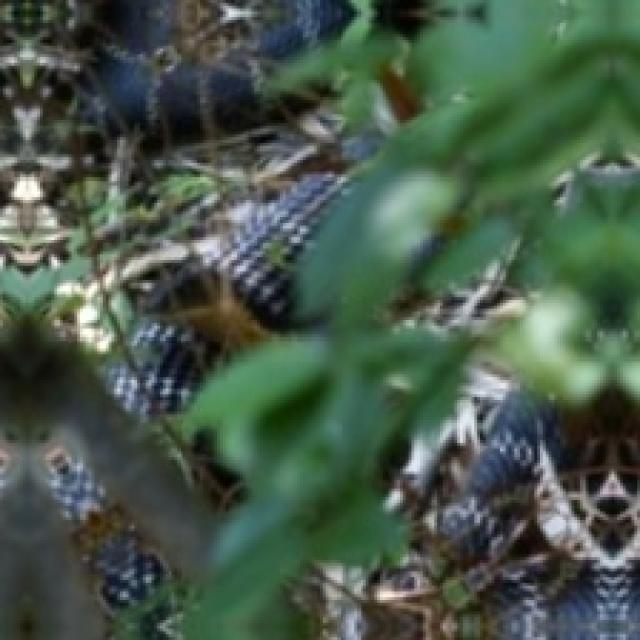king cobra: (186, 149, 637, 637)
